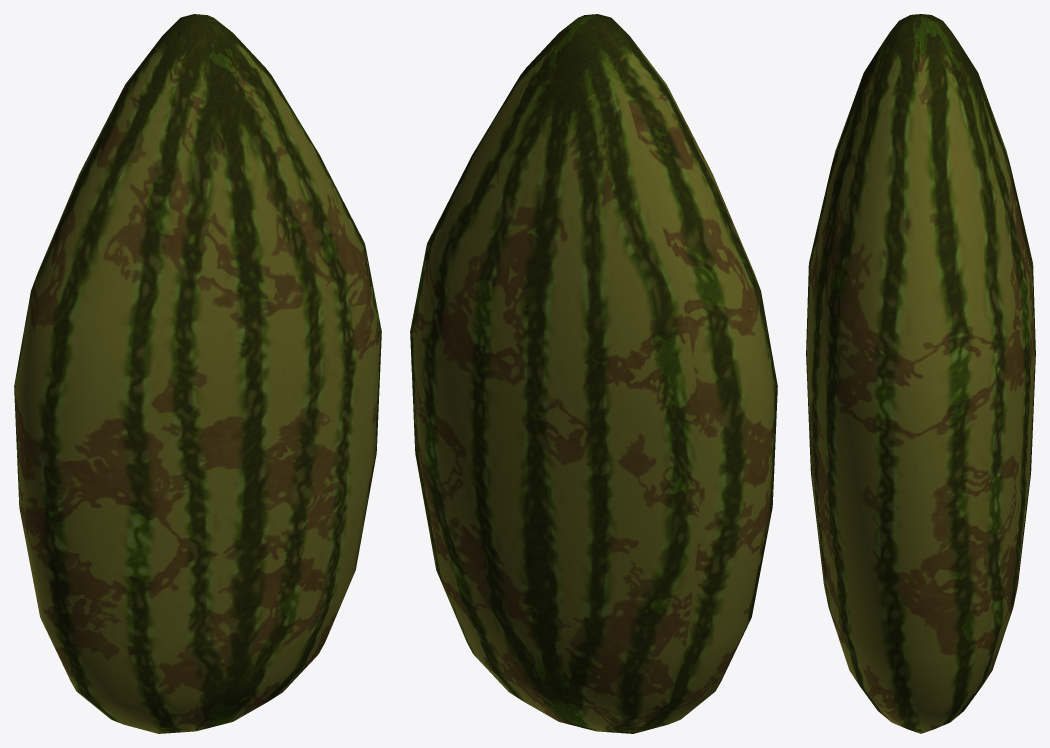
The model's file is Seed.fbx.
3 renders of one model, left to right at view 1: azimuth 30°, elevation 25°; view 2: azimuth 150°, elevation 25°; view 3: azimuth 270°, elevation 25°, orthographic.
Parts seen in each view (by area): view 1: Seed; view 2: Seed; view 3: Seed.
Boxes of the visible parts, bbox=[...] form: Seed: bbox=[14, 14, 381, 733]; Seed: bbox=[410, 14, 777, 733]; Seed: bbox=[806, 14, 1035, 733].
Size of the model in its own units: 0.1794 by 0.349 by 0.1037.
1 material, 1 textured.
